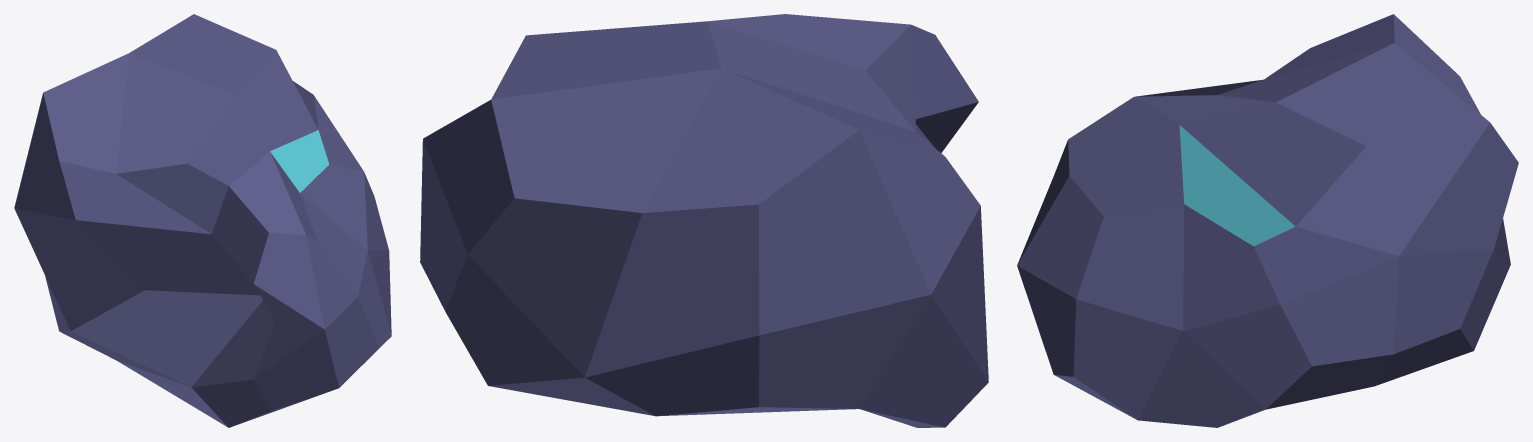
File: Mushroom_Stone_02.fbx
The picture shows the model from 3 angles, left to right: view 1: azimuth 30°, elevation 25°; view 2: azimuth 150°, elevation 25°; view 3: azimuth 270°, elevation 25°; orthographic projection. The views are drawn at different scales.
Visible parts, largest first — view 1: Single_Stone_02; view 2: Single_Stone_02; view 3: Single_Stone_02.
Boxes of the visible parts, x1,y1,x2,y2 form: Single_Stone_02: [14, 14, 391, 427]; Single_Stone_02: [420, 14, 988, 427]; Single_Stone_02: [1017, 14, 1518, 427].
Bounding box in the file's own units: 50.13 × 41.9 × 54.81.
